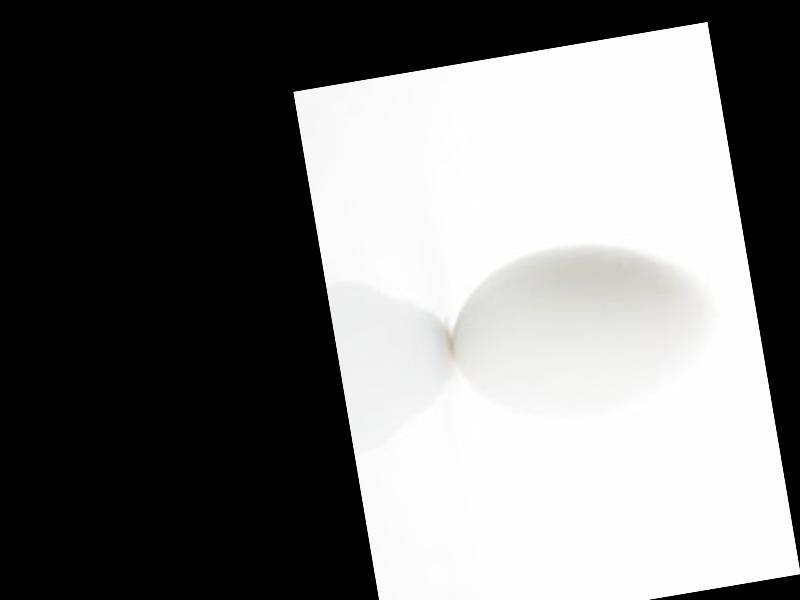Eggs: (439, 224, 726, 430)
